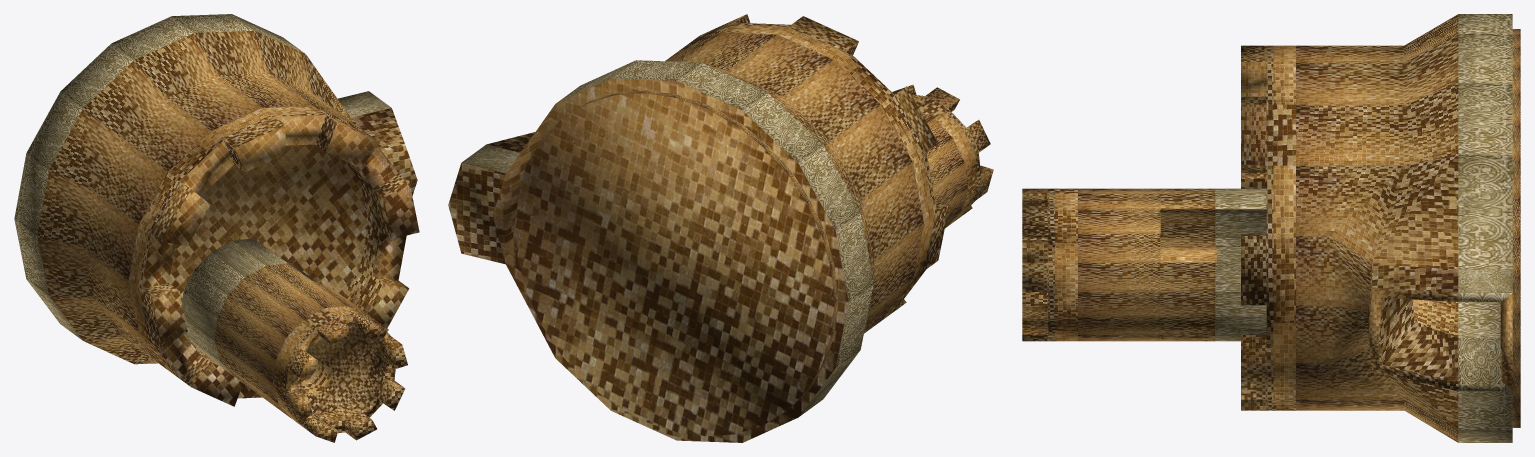
The model's file is barracks.obj.
3 views of the same model, side by side, from view 1: azimuth 30°, elevation 25°; view 2: azimuth 150°, elevation 25°; view 3: azimuth 270°, elevation 25° (orthographic). The views are drawn at different scales.
Visible parts, largest first — view 1: Cylinder.001_Cylinder.009, Cylinder.007_Cylinder.010; view 2: Cylinder, Cylinder.001_Cylinder.009, Cylinder.007_Cylinder.010; view 3: Cylinder.001_Cylinder.009, Cylinder.007_Cylinder.010, Cylinder.
Boxes of the visible parts, x1,y1,x2,y2 form: Cylinder.001_Cylinder.009: (14, 14, 419, 406); Cylinder.007_Cylinder.010: (182, 238, 407, 442); Cylinder: (515, 90, 838, 436); Cylinder.001_Cylinder.009: (448, 14, 949, 442); Cylinder.007_Cylinder.010: (892, 84, 993, 228); Cylinder.001_Cylinder.009: (1241, 14, 1512, 442); Cylinder.007_Cylinder.010: (1022, 188, 1266, 341); Cylinder: (1500, 29, 1520, 427).
Bounding box in the file's own units: 9.59 × 8.23 × 9.56.
